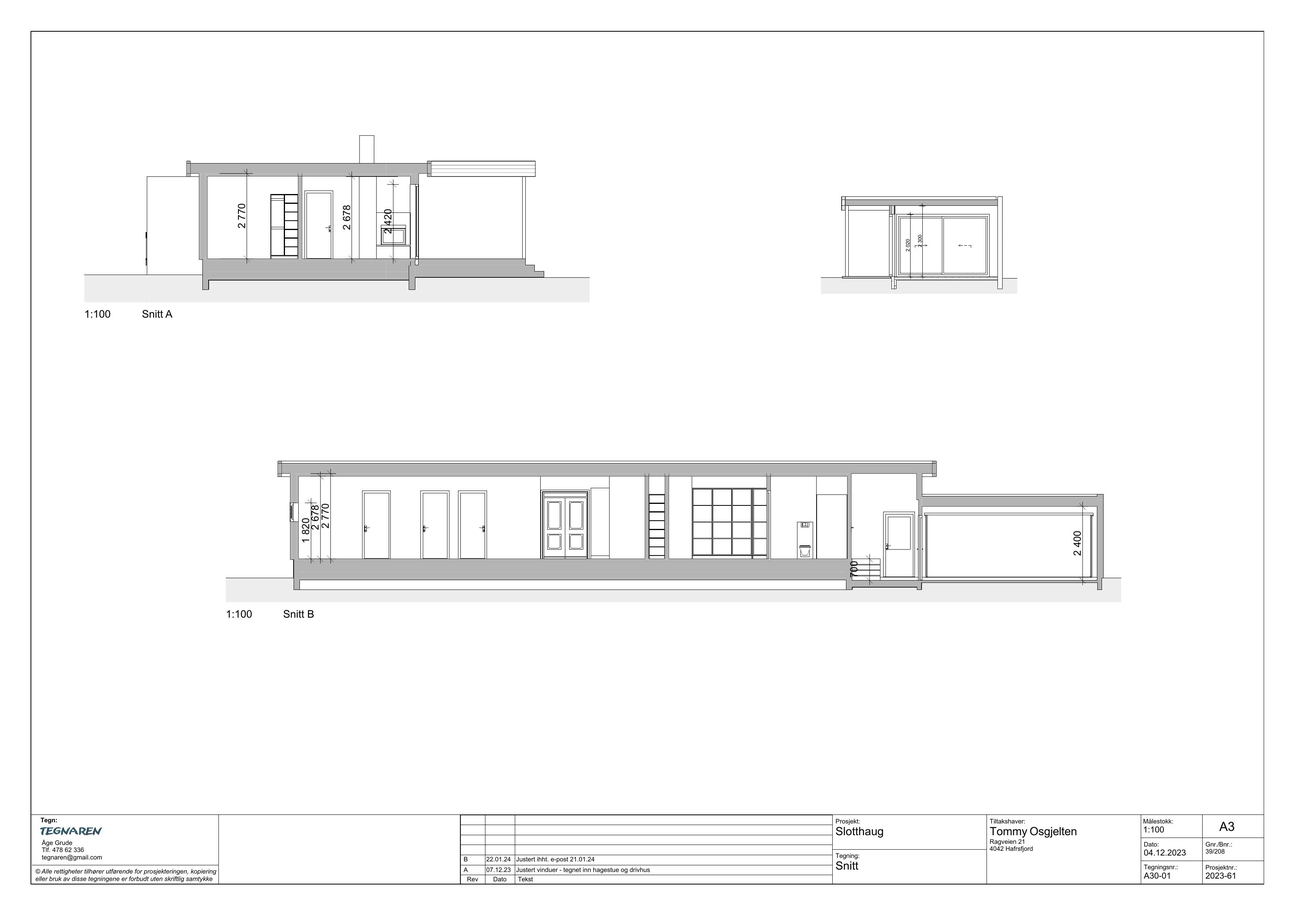snitt: (278, 462, 1106, 592), (145, 134, 544, 290), (841, 194, 1006, 286)
